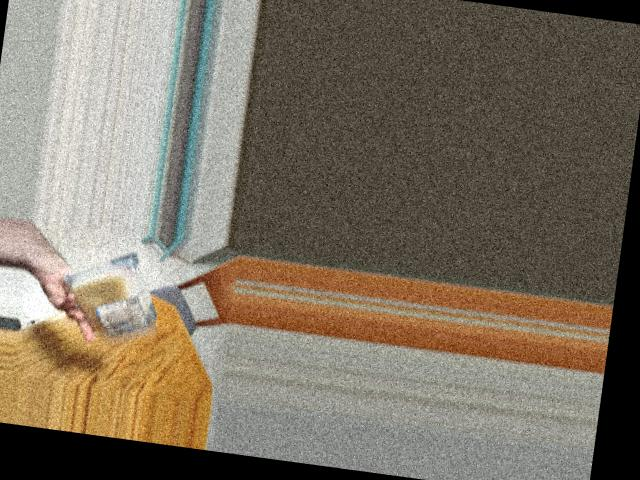cheese: (65, 261, 160, 343)
